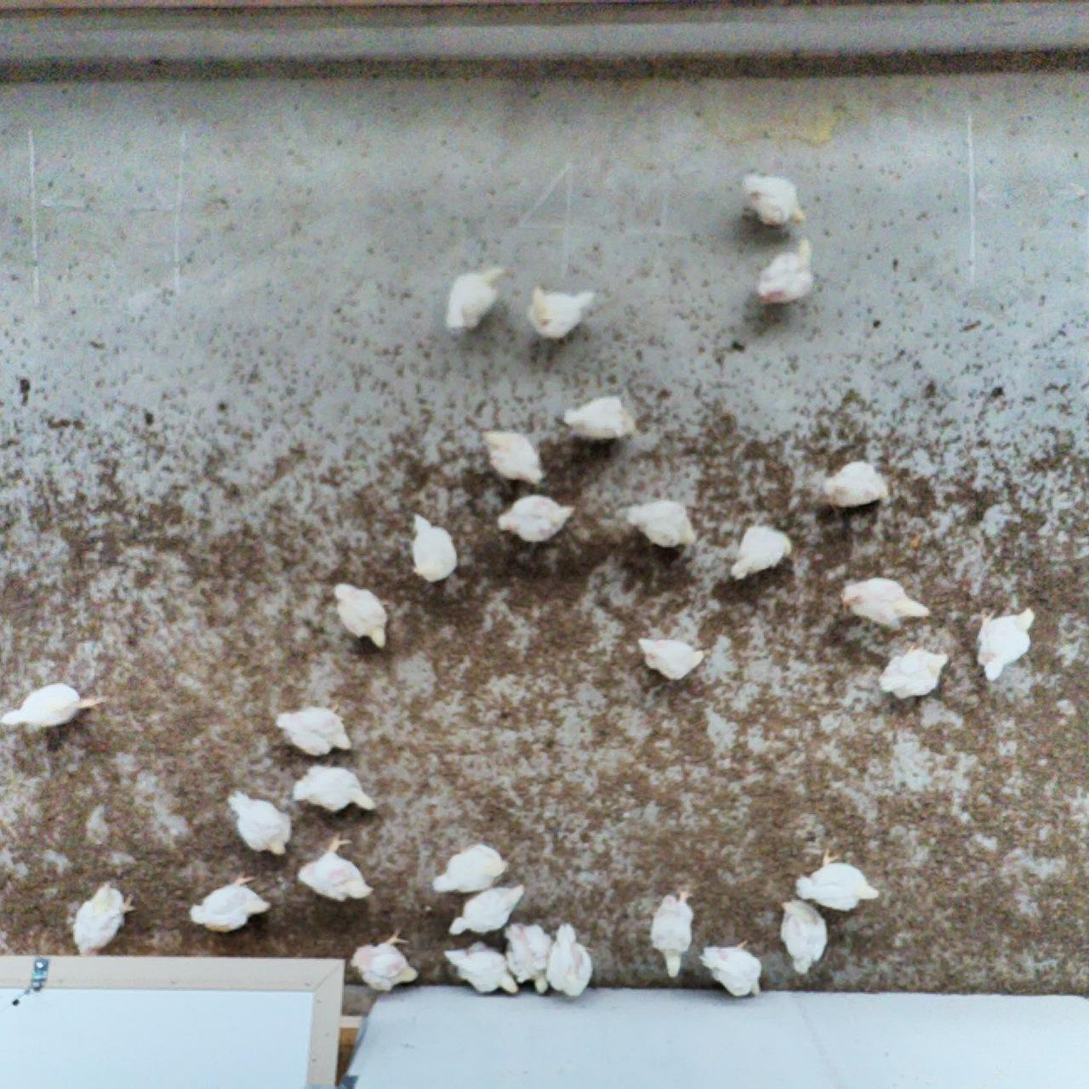chicken: (66, 880, 140, 972), (296, 831, 378, 908), (188, 868, 276, 935), (791, 850, 883, 914), (0, 679, 109, 733), (837, 574, 934, 632), (753, 233, 819, 311), (875, 643, 958, 703), (440, 937, 520, 999), (525, 281, 599, 348), (272, 701, 355, 760), (224, 785, 292, 856), (448, 880, 529, 939), (693, 935, 764, 1001), (476, 425, 545, 492), (351, 927, 420, 994), (976, 606, 1036, 683), (736, 168, 808, 232), (431, 840, 510, 898), (328, 580, 393, 650), (446, 264, 510, 335), (289, 765, 380, 814), (493, 492, 578, 544), (777, 894, 831, 975), (731, 518, 794, 587), (821, 458, 890, 520), (650, 886, 696, 979), (559, 395, 639, 448), (502, 918, 556, 996), (543, 919, 595, 998), (623, 497, 699, 549), (408, 511, 459, 586), (632, 634, 706, 681)
